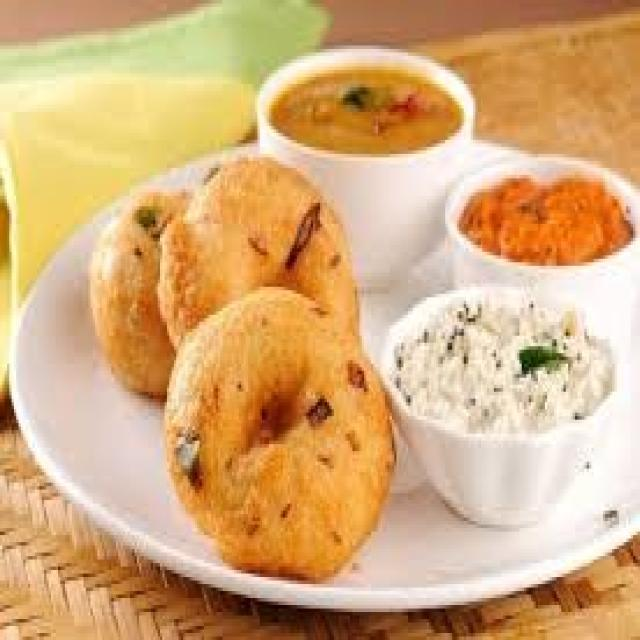medu vadai: (158, 156, 355, 352), (189, 341, 367, 536), (88, 188, 193, 398)
